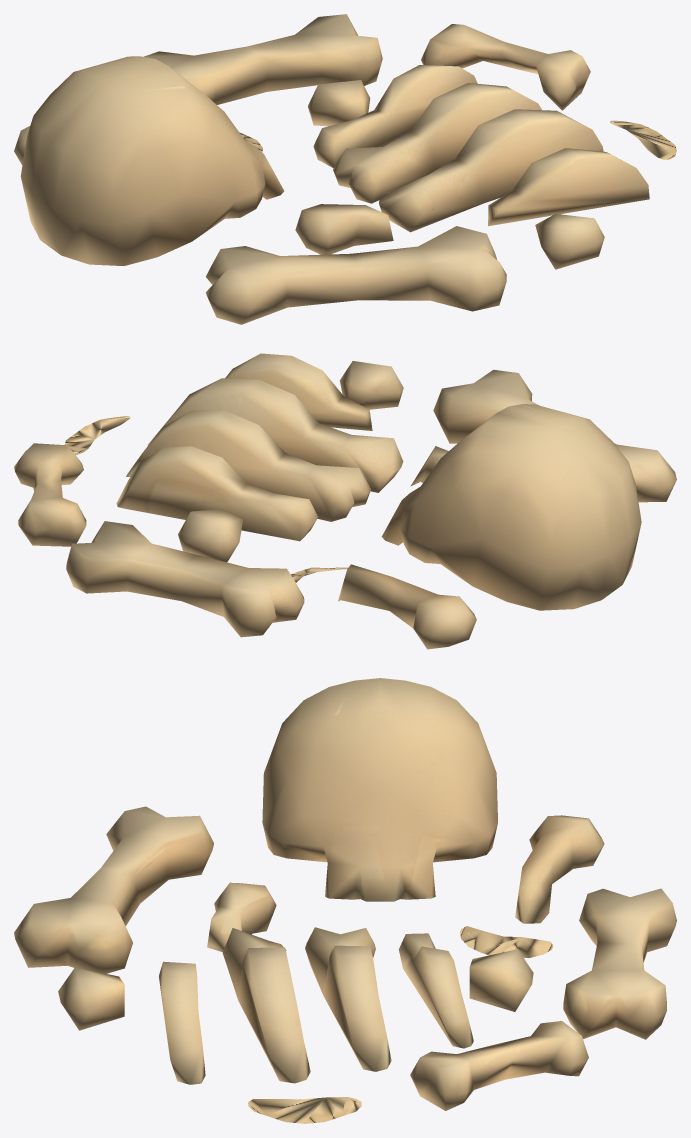
Rendered from bone+skull+3d+model.fbx.
3 renders of one model, top to bottom at view 1: azimuth 30°, elevation 25°; view 2: azimuth 150°, elevation 25°; view 3: azimuth 270°, elevation 25°, orthographic. The views are drawn at different scales.
Visible parts, largest first — view 1: meshes[0]; view 2: meshes[0]; view 3: meshes[0].
Boxes of the visible parts, x1,y1,x2,y2 form: meshes[0]: [14, 14, 676, 324]; meshes[0]: [14, 353, 676, 649]; meshes[0]: [14, 678, 676, 1123].
Bounding box in the file's own units: 0.998 × 0.2598 × 0.9121.
Materials: 1 (1 with a texture image).
